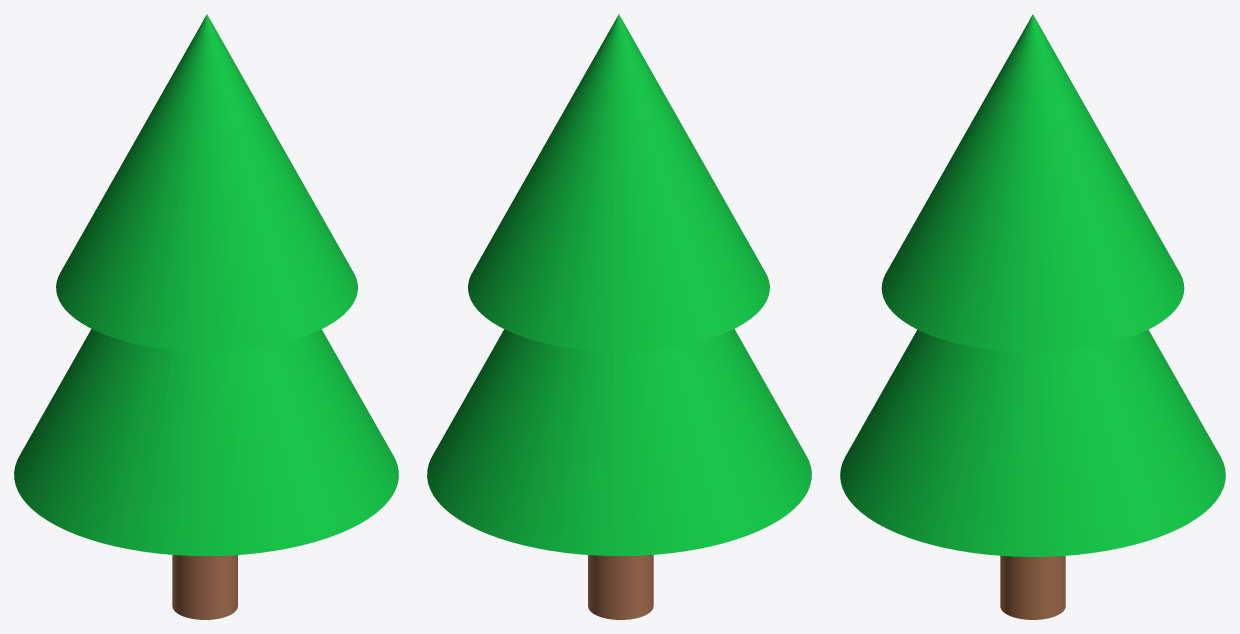
File: PineTree1.fbx
3 renders of one model, left to right at view 1: azimuth 30°, elevation 25°; view 2: azimuth 150°, elevation 25°; view 3: azimuth 270°, elevation 25°, orthographic.
Parts seen in each view (by area): view 1: root (×3); view 2: root (×3); view 3: root (×3).
Part boxes in pixels (x1=…): root (×3): x1=14, y1=14, x2=398, y2=619; root (×3): x1=427, y1=14, x2=811, y2=619; root (×3): x1=840, y1=14, x2=1225, y2=619.
Size of the model in its own units: 0.1237 by 0.2099 by 0.1237.
